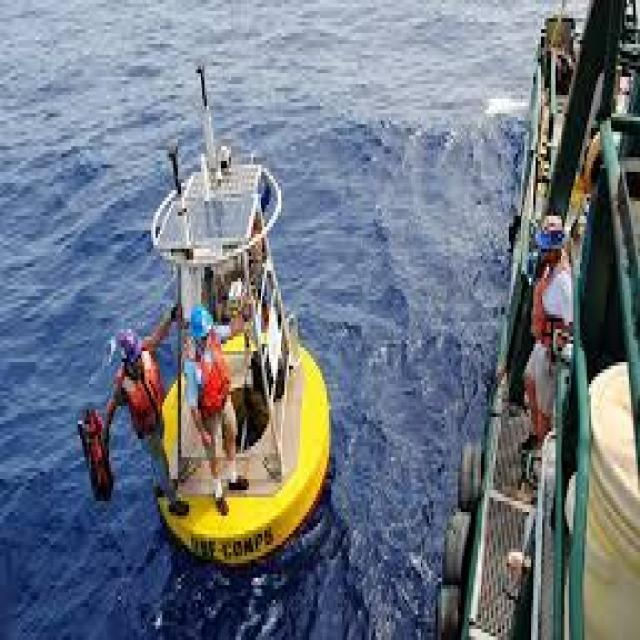marque: (139, 49, 336, 561)
